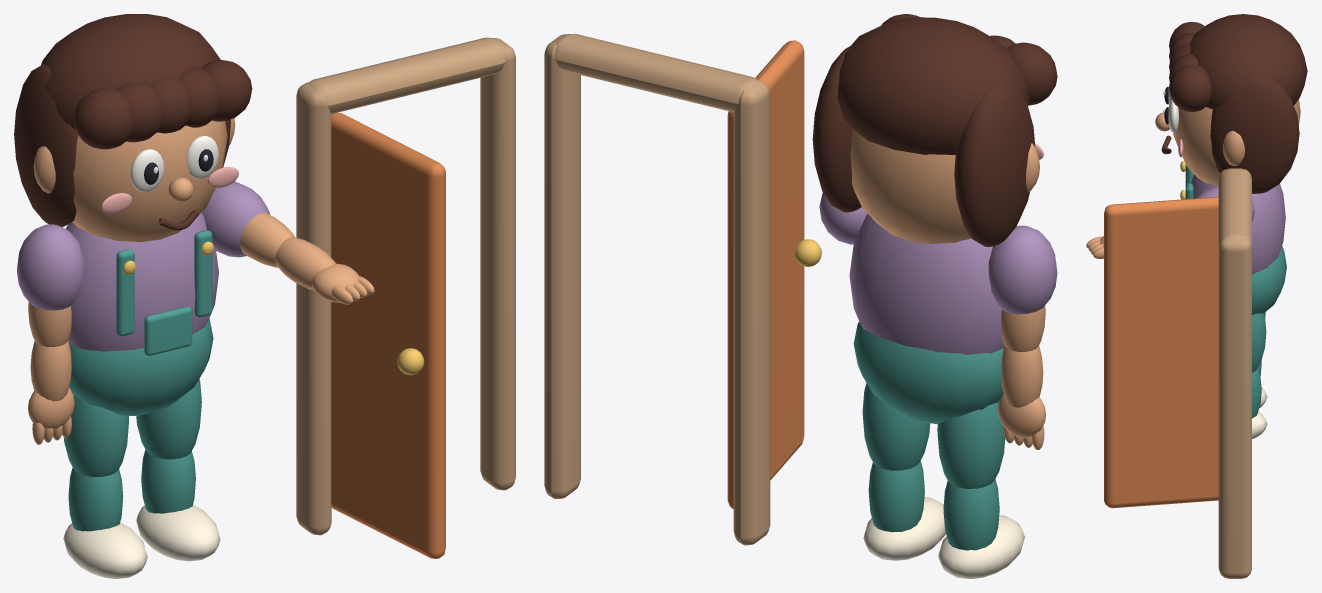
Rendered from mommy-close.glb.
The picture shows the model from 3 angles, left to right: view 1: azimuth 30°, elevation 25°; view 2: azimuth 150°, elevation 25°; view 3: azimuth 270°, elevation 25°; orthographic projection. The views are drawn at different scales.
Visible parts, largest first — view 1: door, door frame.001, door frame, soft shirt, clay head, hair cap, overalls, door frame.002, bob hair, shirt sleeve, trouser leg, little shoe.001 (+22 smaller); view 2: hair cap, door, door frame, door frame.001, soft shirt, bob hair, overalls, clay head, door frame.002, shirt sleeve, trouser leg, bob hair.001 (+10 smaller); view 3: door, door frame.001, hair cap, bob hair.001, soft shirt, clay head, door frame.002, fringe.004, overalls, trouser leg.001, little ear.001, lower leg.001 (+3 smaller).
Boxes of the visible parts, left/top/right/bottom form: door: left=331, top=112, right=445, bottom=558; door frame.001: left=480, top=38, right=515, bottom=490; door frame: left=296, top=82, right=331, bottom=535; soft shirt: left=66, top=212, right=218, bottom=351; clay head: left=72, top=120, right=227, bottom=242; hair cap: left=41, top=14, right=220, bottom=129; overalls: left=69, top=318, right=213, bottom=415; door frame.002: left=306, top=37, right=505, bottom=113; bob hair: left=14, top=63, right=78, bottom=227; shirt sleeve: left=17, top=224, right=83, bottom=310; trouser leg: left=63, top=396, right=128, bottom=476; little shoe.001: left=136, top=505, right=220, bottom=561; hair cap: left=837, top=17, right=1029, bottom=154; door: left=727, top=40, right=804, bottom=509; door frame: left=733, top=80, right=770, bottom=545; door frame.001: left=544, top=34, right=580, bottom=499; soft shirt: left=849, top=213, right=1004, bottom=354; bob hair: left=954, top=84, right=1035, bottom=246; overalls: left=853, top=321, right=1003, bottom=423; clay head: left=850, top=130, right=971, bottom=244; door frame.002: left=555, top=33, right=759, bottom=112; shirt sleeve: left=988, top=225, right=1057, bottom=314; trouser leg: left=937, top=400, right=1005, bottom=488; bob hair.001: left=812, top=46, right=861, bottom=212; door: left=1104, top=197, right=1218, bottom=508; door frame.001: left=1218, top=239, right=1251, bottom=578; hair cap: left=1190, top=14, right=1307, bottom=109; bob hair.001: left=1210, top=75, right=1299, bottom=193; soft shirt: left=1191, top=174, right=1285, bottom=274; clay head: left=1173, top=99, right=1300, bottom=185; door frame.002: left=1218, top=168, right=1251, bottom=245; fringe.004: left=1169, top=64, right=1211, bottom=111; overalls: left=1252, top=245, right=1286, bottom=314; trouser leg.001: left=1252, top=313, right=1266, bottom=372; little ear.001: left=1222, top=131, right=1244, bottom=166; lower leg.001: left=1252, top=368, right=1261, bottom=418.
Size of the model in its own units: 2.07 by 2.22 by 1.06.
